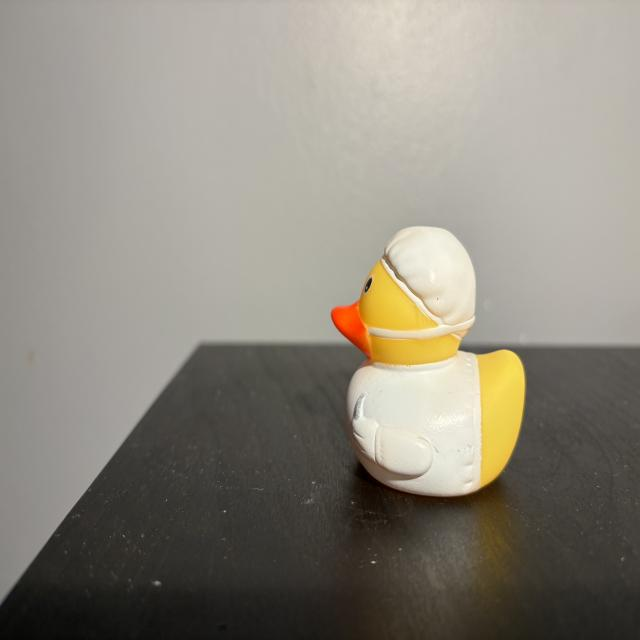duck_specialty: (332, 227, 527, 498)
